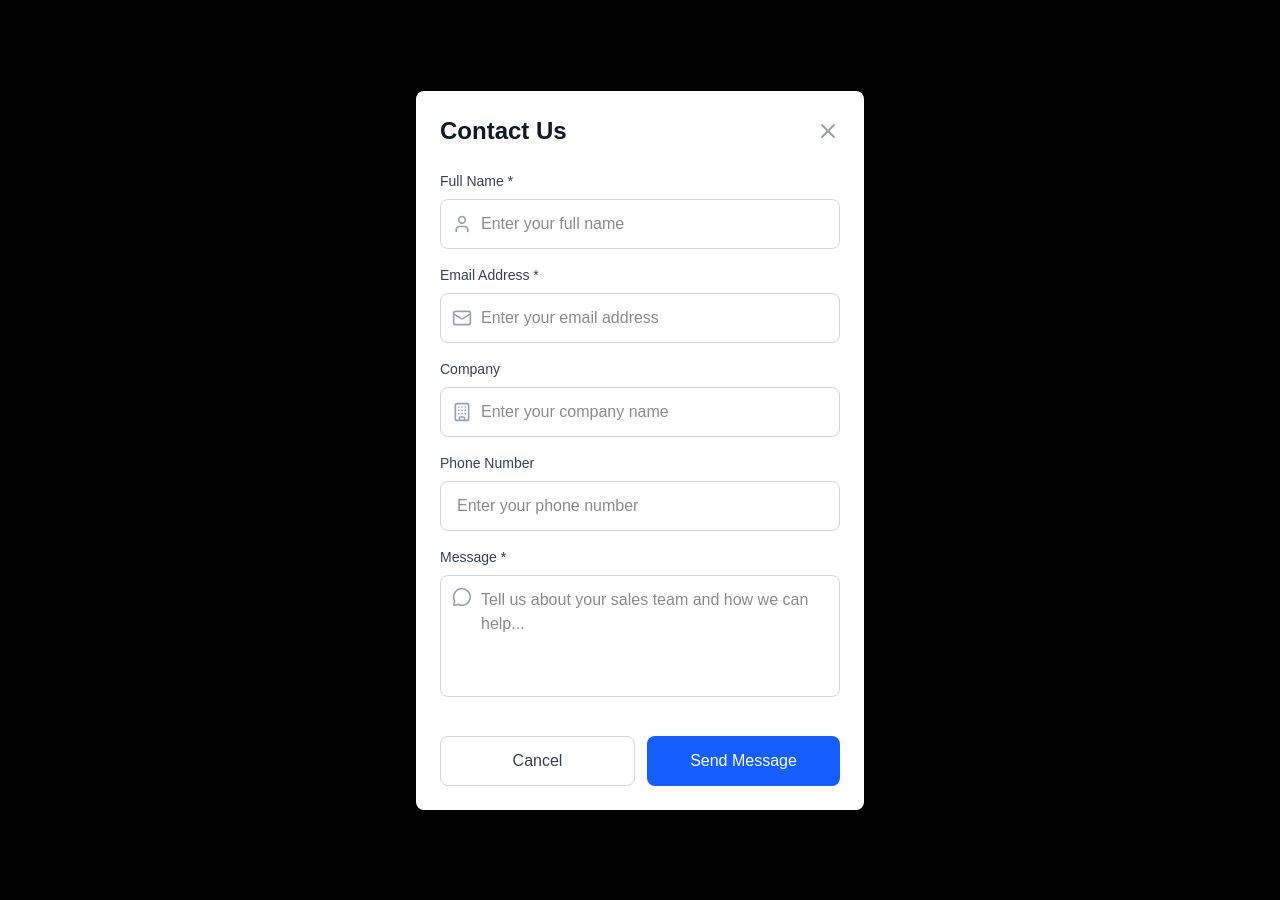
Test: ContactForm Component › shows success message after successful submission
The image size is (1280, 900).
# Fill and submit form
Type "John" into the field labelled "Full Name *".
click(640, 224); type("John")  # box top-left (440, 198), bottom-right (840, 248)
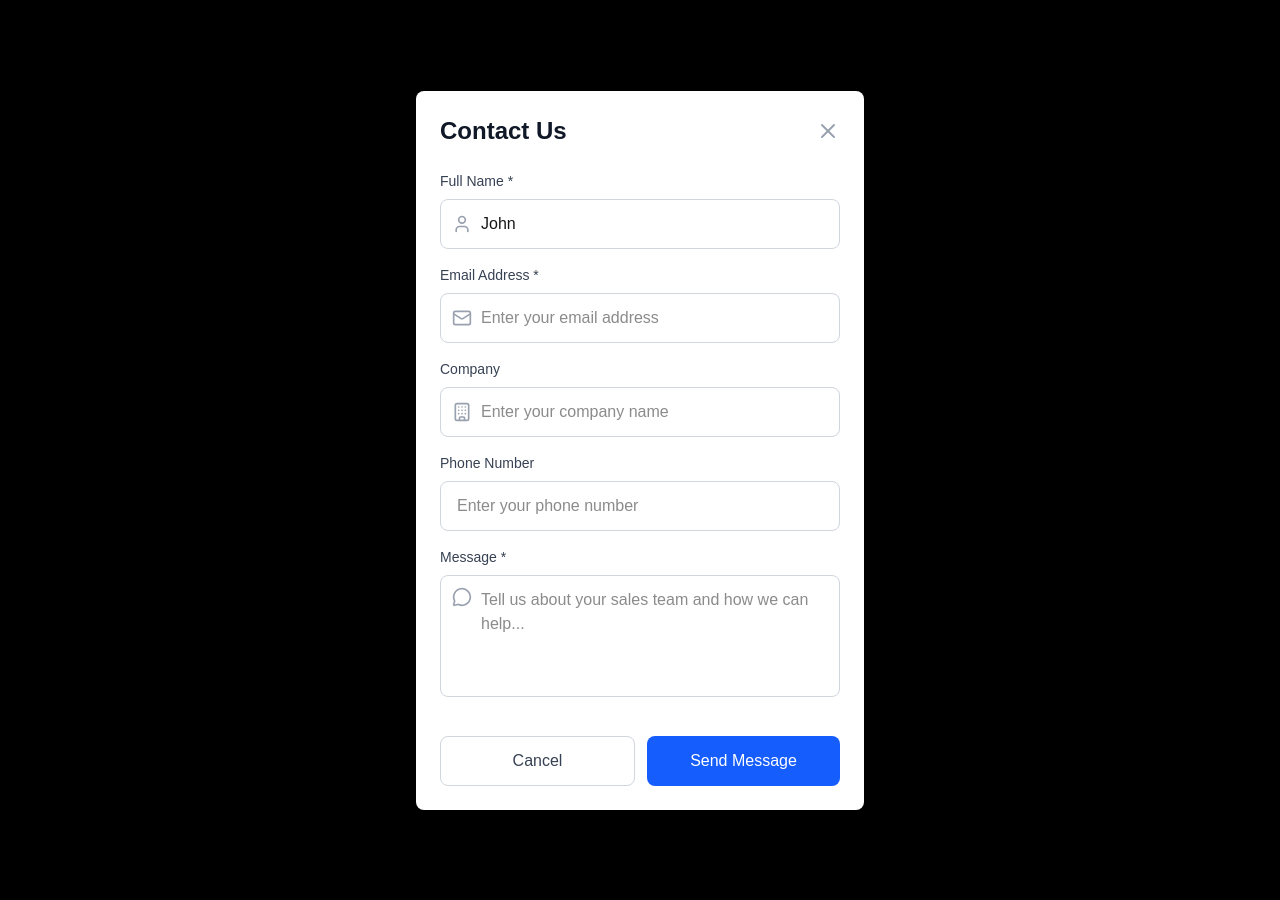
Type "john@example.com" into the field labelled "Email Address *".
click(640, 318); type("john@example.com")  # box top-left (440, 292), bottom-right (840, 342)
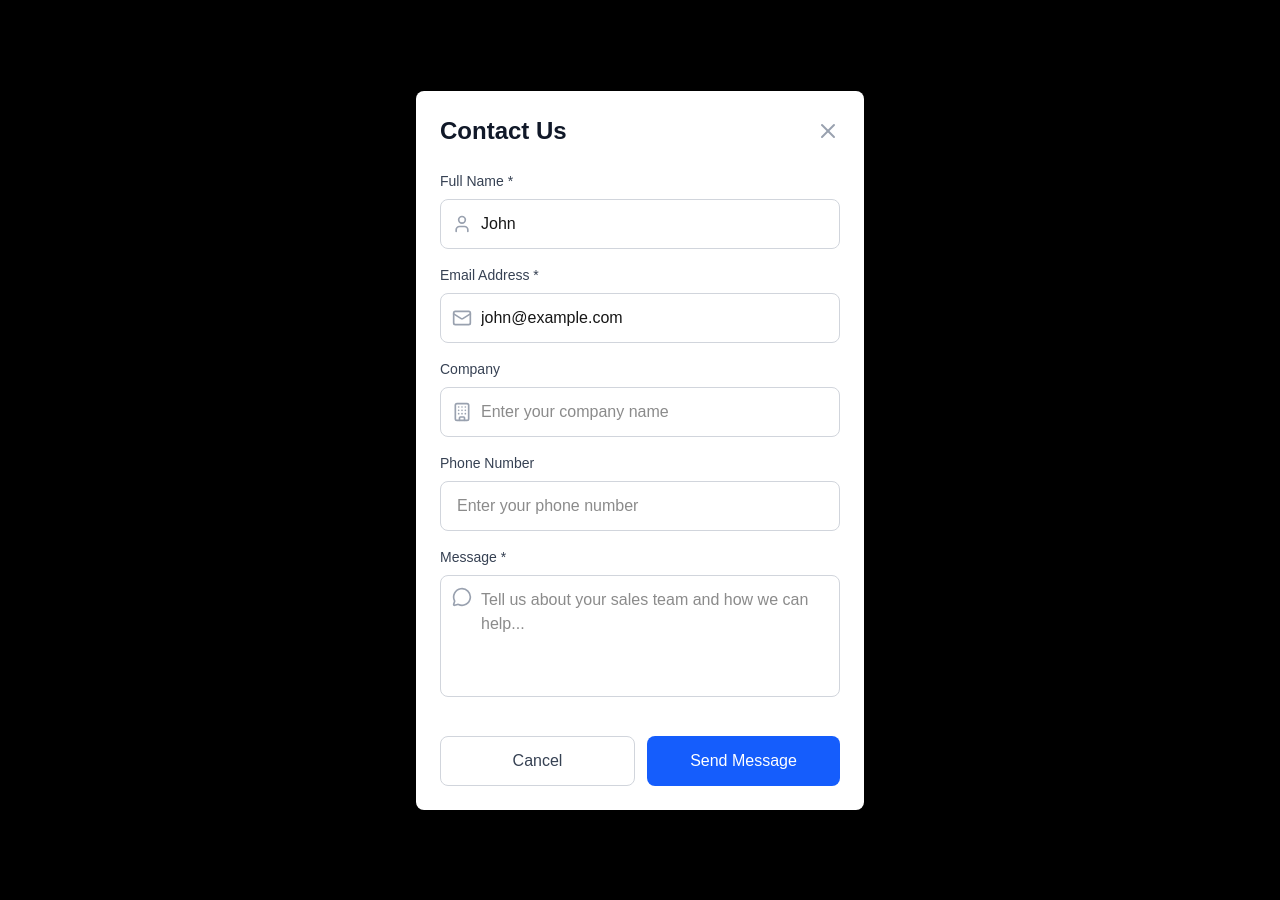
Type "Test" into the text box labelled "Message *".
click(640, 636); type("Test")  # box top-left (440, 574), bottom-right (840, 696)
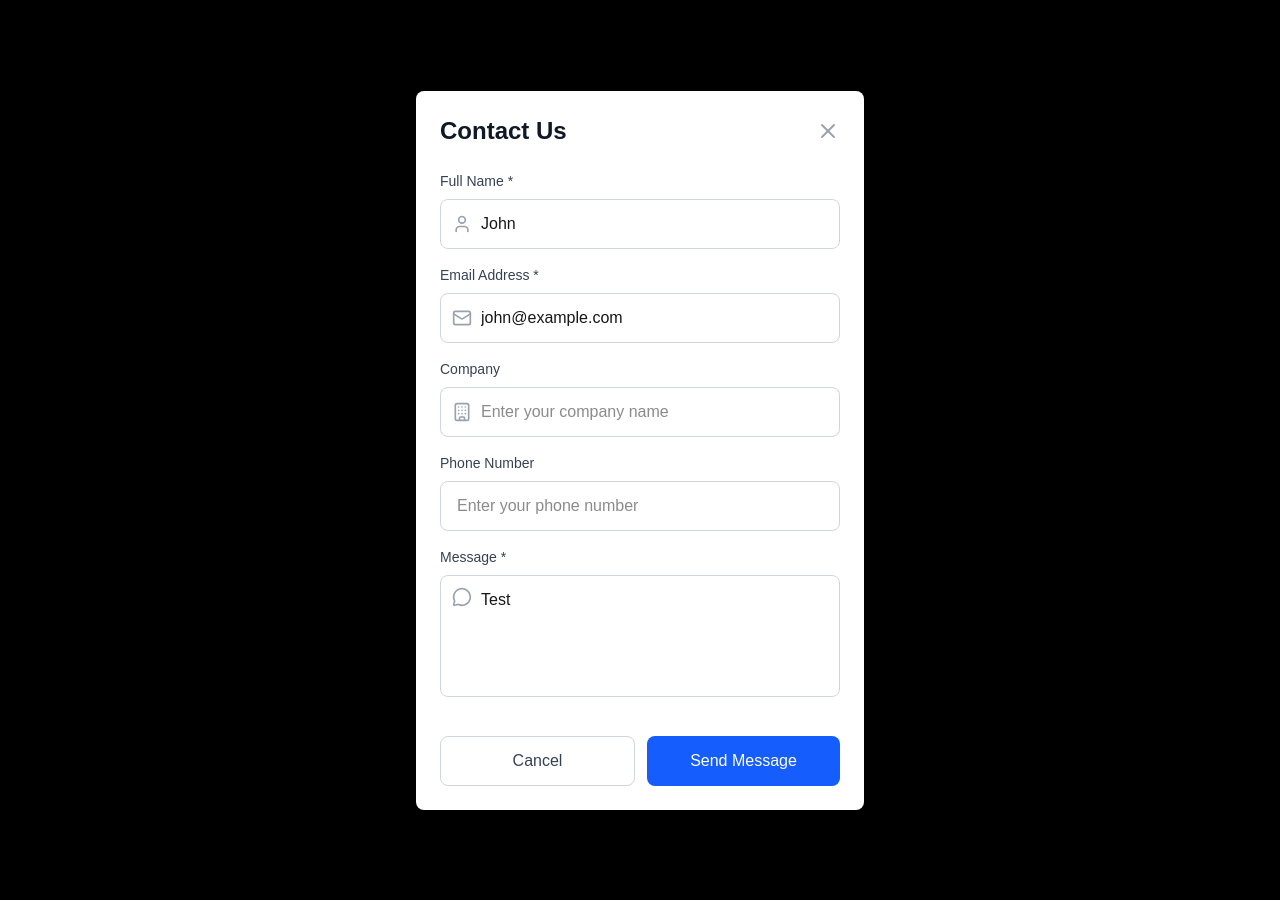
Click the button "Send Message".
click(744, 760)  # box top-left (647, 736), bottom-right (840, 786)
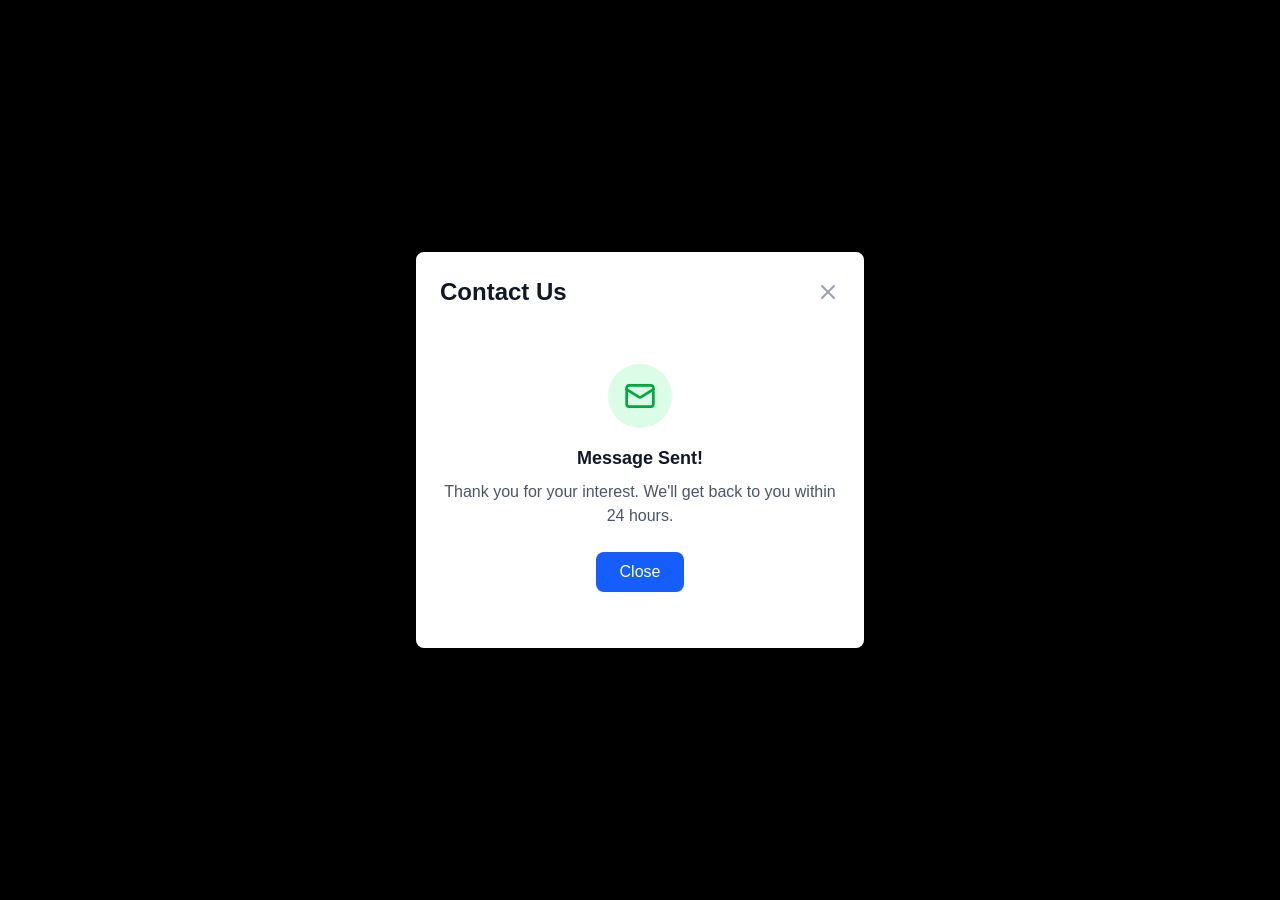
Expected: the heading "Message Sent!" is shown, top-left (577, 448), bottom-right (703, 468)
